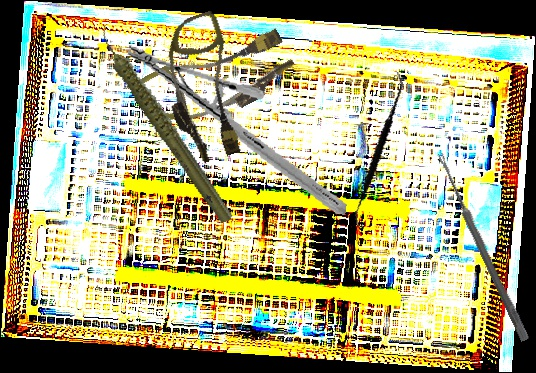Cannula: (133, 11, 302, 148), (146, 9, 259, 168)
Handpiece: (96, 5, 236, 241)
Needle Holder: (109, 45, 365, 215)
Spatula Surgical: (321, 71, 434, 228)
Surgical Spoon: (434, 151, 531, 343)
